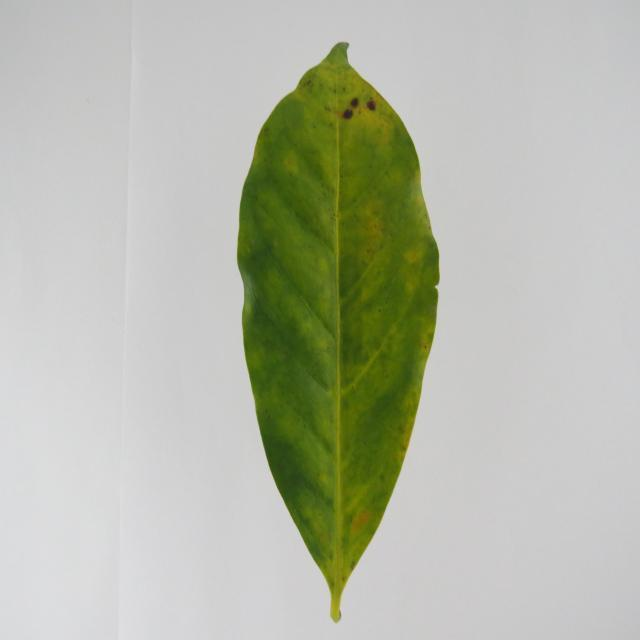DeficienciaNutricional-Nitrogeno: (237, 42, 437, 618)
